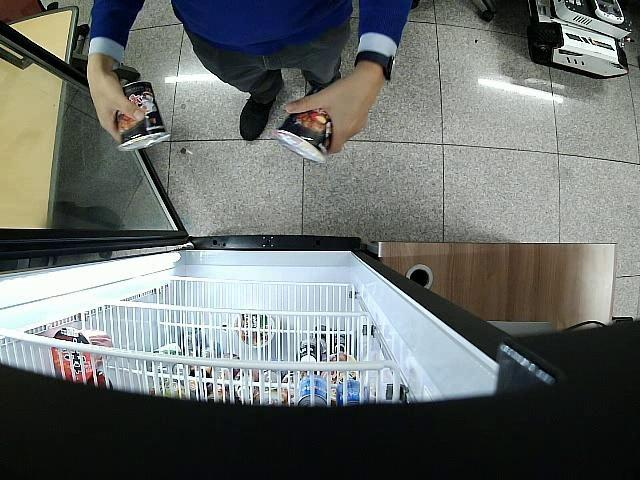08_buldak_S: (274, 86, 333, 162), (117, 83, 170, 152)
